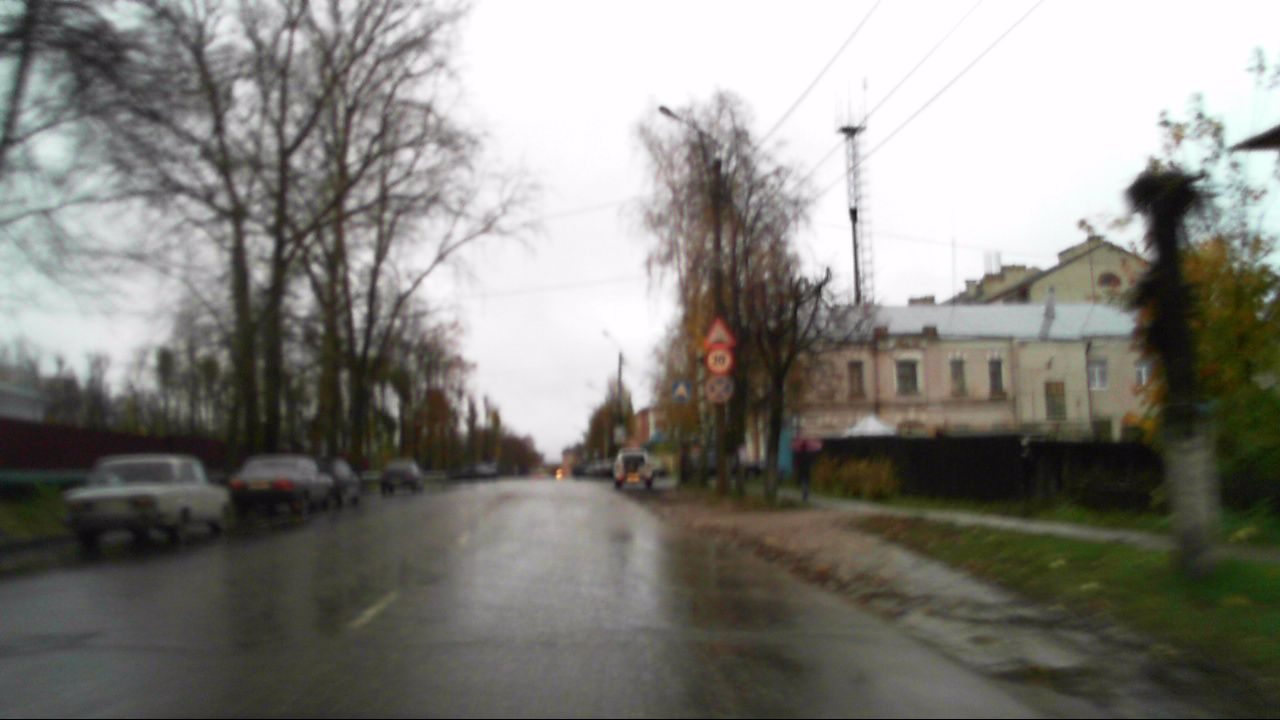No Parking: (704, 374, 734, 404)
